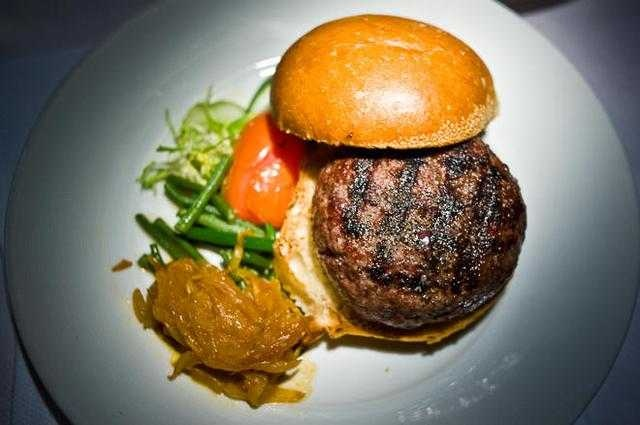hamburger: (295, 20, 552, 345)
